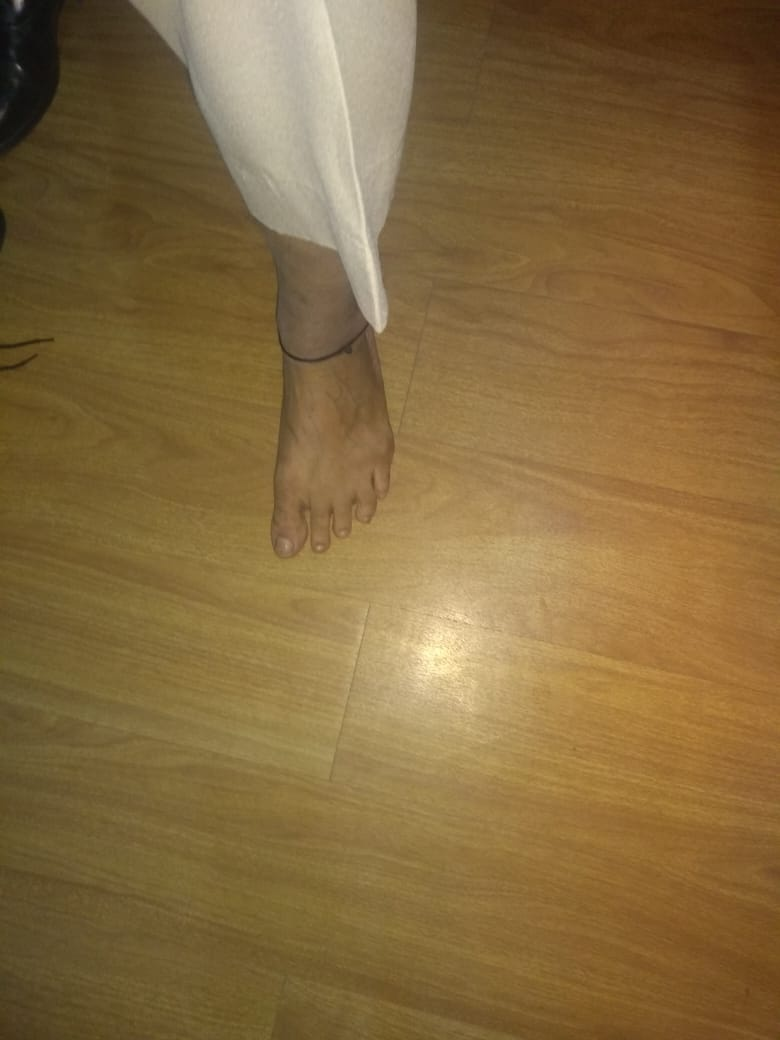feet: (234, 234, 423, 552)
